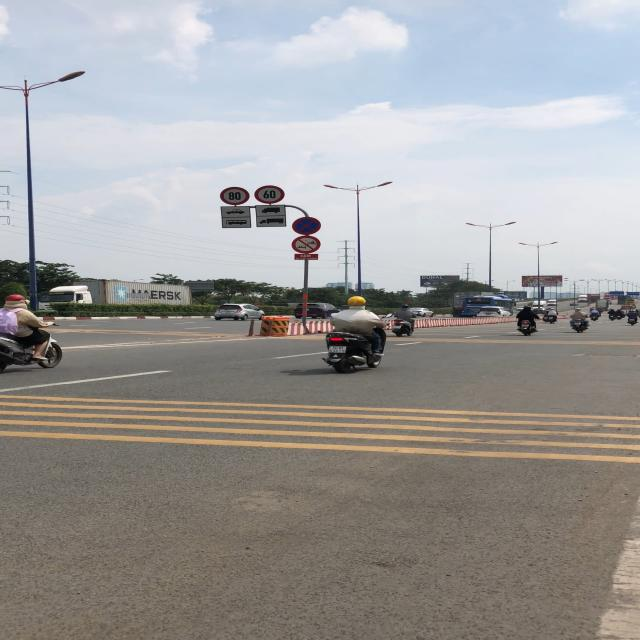Bien bao cam dung xe va do xe: (290, 216, 323, 236)
Bien bao toc do toi da cho phep: (253, 185, 288, 203), (220, 186, 250, 206)
